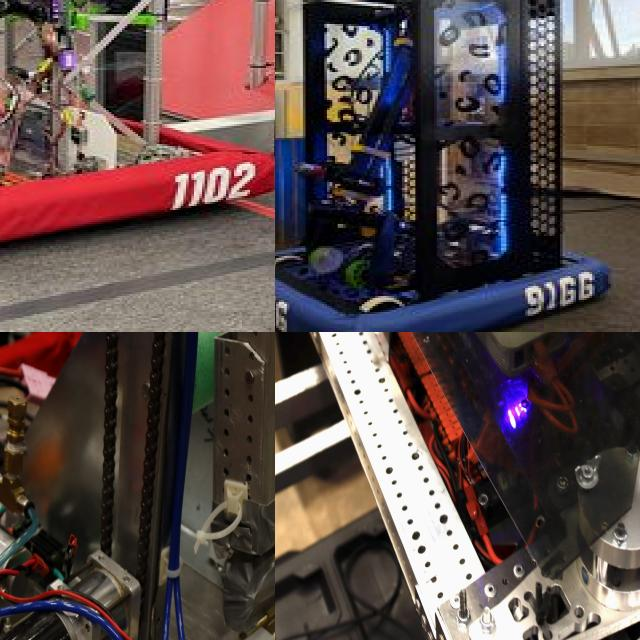FRC-Robots: (275, 0, 616, 332), (275, 332, 640, 640), (0, 332, 275, 640), (0, 0, 275, 252)
